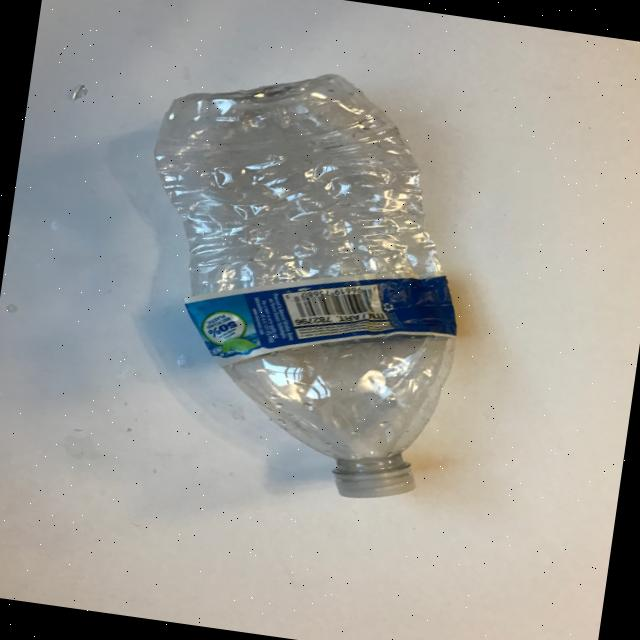plastic: (110, 49, 492, 510)
